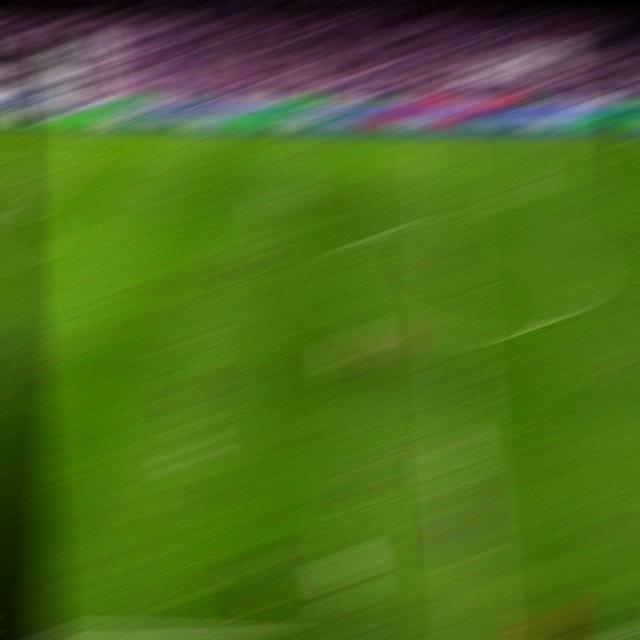bigarea_top_inner: (56, 165, 89, 174)
halfcircle_bottom: (437, 324, 477, 347)
halfcircle_top: (430, 215, 467, 234)
midline_top_intersection: (425, 129, 459, 139)
top_arc_area_intersection: (3, 214, 36, 224)
